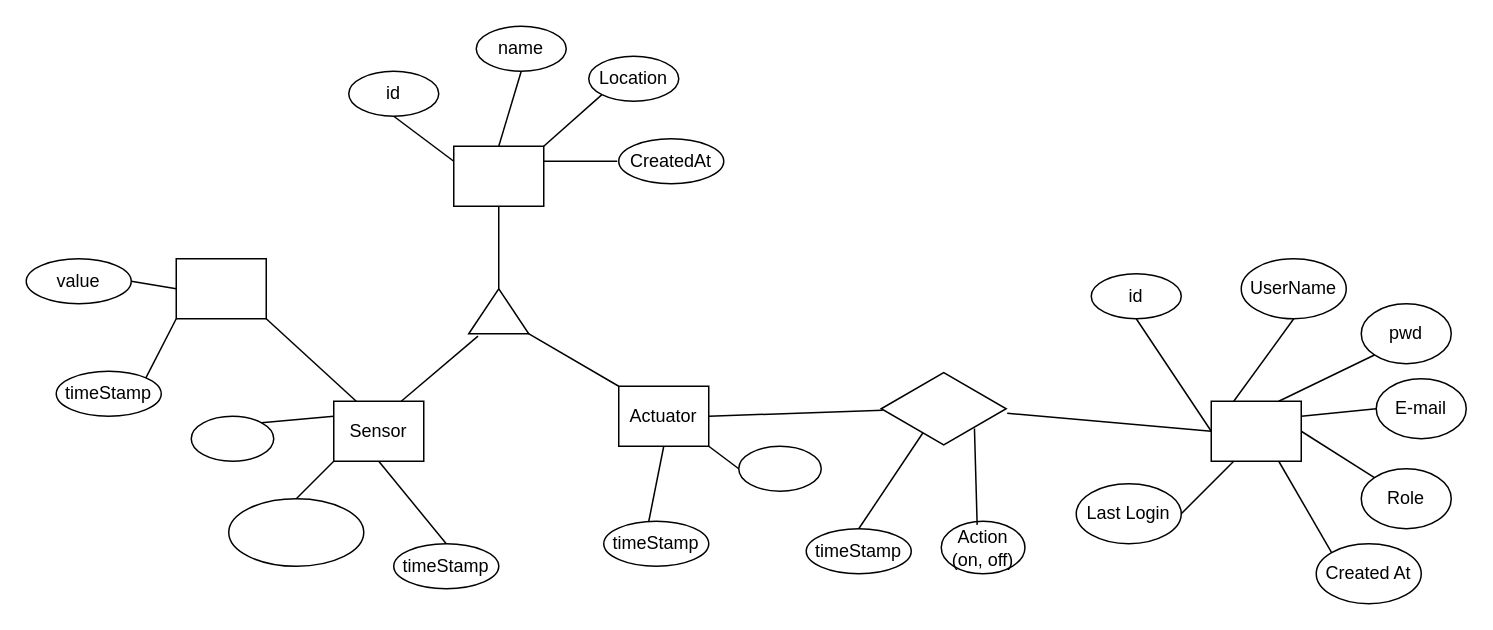
The diagram is 1493 pixels wide and 630 high, and some of its shapes have lost their labels. The centre of each missing label's shape, as x and y in pixels:
"Action" belongs at [943,408].
"Device" belongs at [498,175].
"history" belongs at [220,288].
"ISA" belongs at [498,310].
"status" belongs at [779,468].
"Type (temp., humi.)" belongs at [295,531].
"User" belongs at [1255,430].
"Values" belongs at [232,438].
